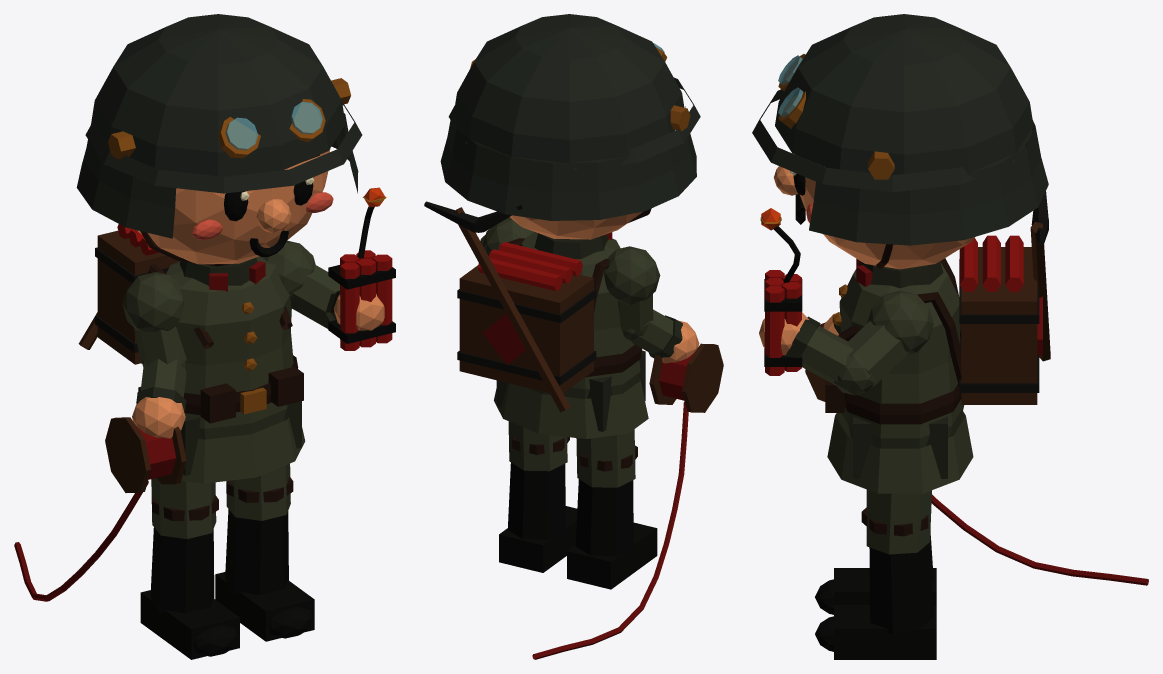
The model's file is Zapador_CascoAcero.obj.
3 renders of one model, left to right at view 1: azimuth 30°, elevation 25°; view 2: azimuth 150°, elevation 25°; view 3: azimuth 270°, elevation 25°, orthographic. The views are drawn at different scales.
Visible parts, largest first — view 1: Cuerpo, Pierna_I, Pierna_D; view 2: Cuerpo, Pierna_I, Pierna_D; view 3: Cuerpo, Pierna_D, Pierna_I.
Boxes of the visible parts, x1,y1,x2,y2 form: Cuerpo: [14, 14, 395, 601]; Pierna_I: [140, 478, 239, 659]; Pierna_D: [215, 463, 314, 641]; Cuerpo: [424, 14, 723, 659]; Pierna_I: [567, 429, 657, 589]; Pierna_D: [499, 421, 577, 572]; Cuerpo: [752, 14, 1148, 585]; Pierna_D: [815, 490, 936, 659]; Pierna_I: [815, 489, 936, 614].
Bounding box in the file's own units: 0.7742 × 1.75 × 1.04.
